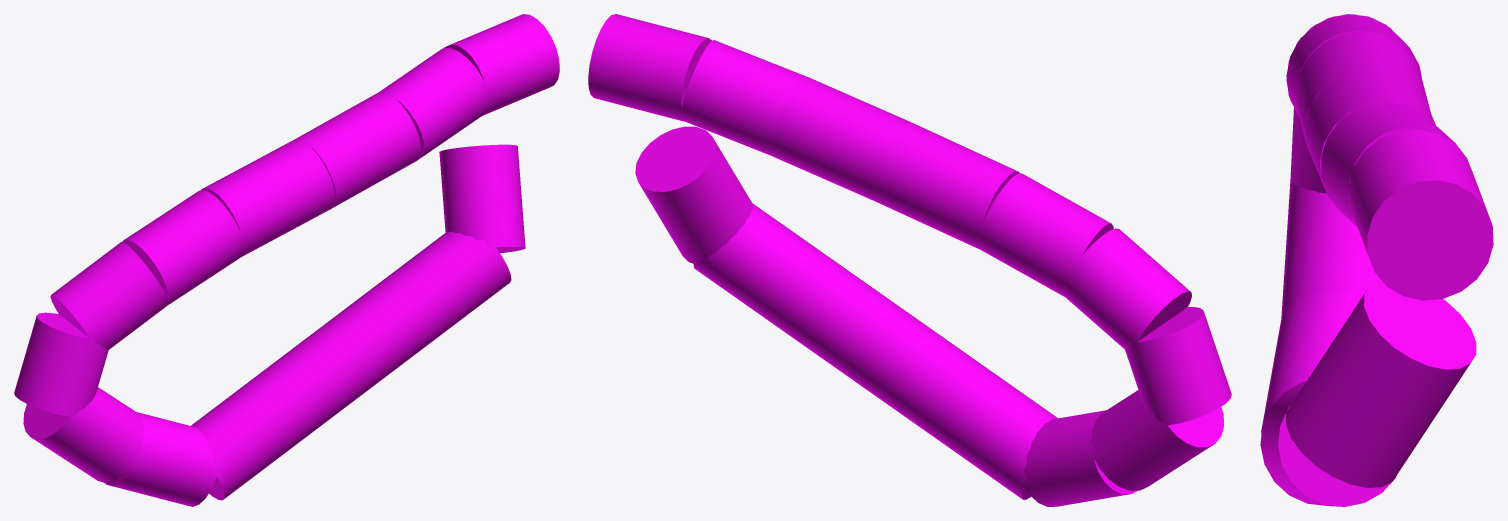
3 views of the same model, side by side, from view 1: azimuth 30°, elevation 25°; view 2: azimuth 150°, elevation 25°; view 3: azimuth 270°, elevation 25° (orthographic). The views are drawn at different scales.
Visible parts, largest first — view 1: Cylinder(Clone) (×11); view 2: Cylinder(Clone) (×11); view 3: Cylinder(Clone) (×10).
Boxes of the visible parts, left/top/right/bottom form: Cylinder(Clone) (×11): left=14, top=14, right=559, bottom=506; Cylinder(Clone) (×11): left=588, top=14, right=1231, bottom=506; Cylinder(Clone) (×10): left=1260, top=14, right=1493, bottom=506.
Bounding box in the file's own units: 0.0797 × 0.052 × 0.0182.
